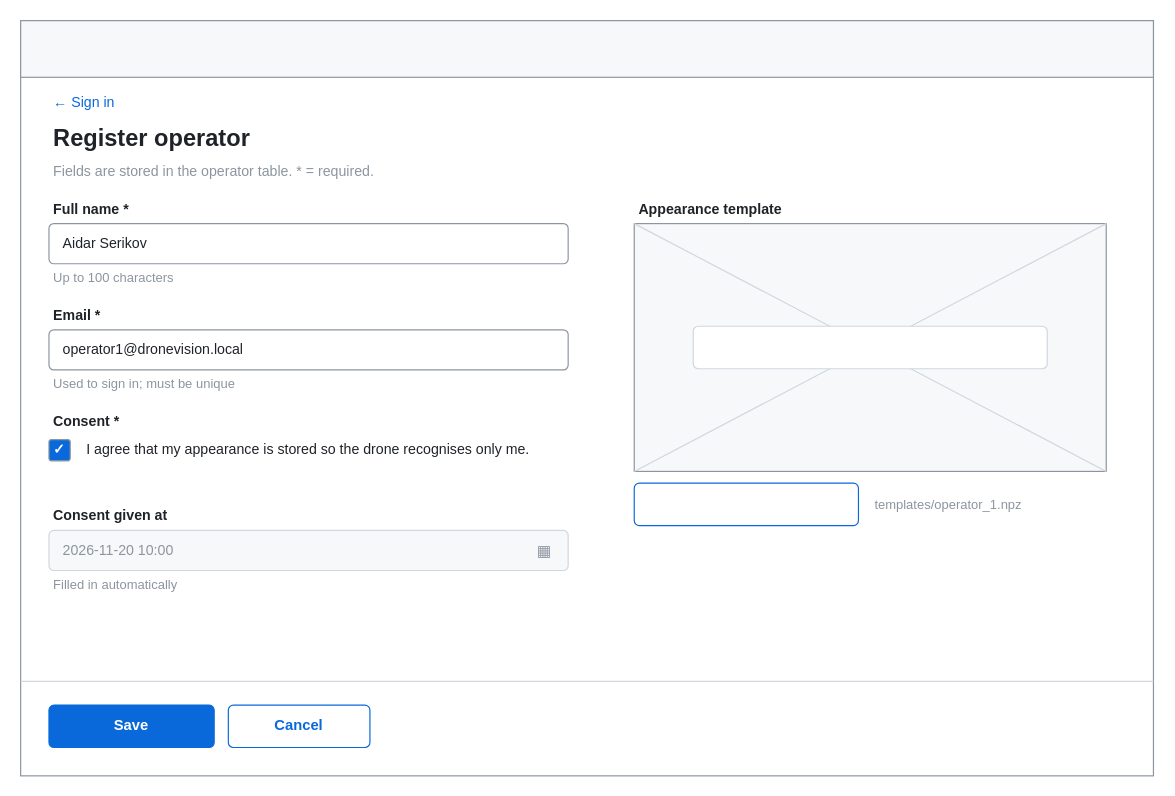
Some shapes in this 1175 by 796 pixel diagram are drawn without their labels. Here are the shapes that lost their labels. From the top down, the box of each, then its label:
(19, 19, 1153, 77): Drone Vision
(692, 325, 1047, 369): Camera preview
(633, 482, 858, 526): Capture from camera
